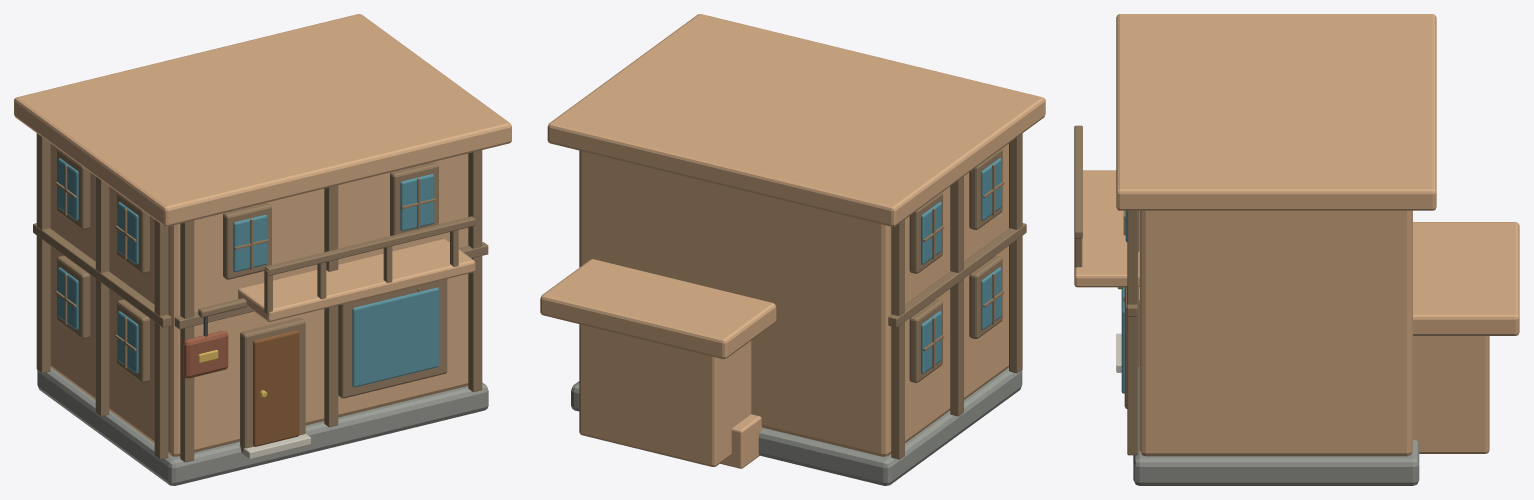
Rendered from arid-merchant-3.glb.
3 renders of one model, left to right at view 1: azimuth 30°, elevation 25°; view 2: azimuth 150°, elevation 25°; view 3: azimuth 270°, elevation 25°, orthographic. The views are drawn at different scales.
Visible parts, largest first — view 1: Adobe cream, Palm beams, Blue glass, Foundation stone, Adobe wood, Door oak, Painted sign, Cut limestone; view 2: Adobe cream, Adobe fieldstone, Palm beams, Foundation stone, Blue glass, Adobe wood; view 3: Adobe cream, Adobe fieldstone, Foundation stone, Adobe wood, Palm beams, Blue glass.
Part boxes in pixels (x1=…): Adobe cream: x1=14, y1=14, x2=511, y2=456; Palm beams: x1=33, y1=133, x2=488, y2=462; Blue glass: x1=58, y1=158, x2=439, y2=387; Foundation stone: x1=37, y1=368, x2=488, y2=485; Adobe wood: x1=238, y1=239, x2=475, y2=321; Door oak: x1=253, y1=330, x2=299, y2=446; Painted sign: x1=183, y1=331, x2=228, y2=378; Cut limestone: x1=239, y1=433, x2=310, y2=459; Adobe cream: x1=540, y1=14, x2=1045, y2=456; Adobe fieldstone: x1=579, y1=324, x2=751, y2=466; Palm beams: x1=888, y1=133, x2=1026, y2=459; Foundation stone: x1=571, y1=367, x2=1022, y2=485; Blue glass: x1=921, y1=158, x2=1001, y2=373; Adobe wood: x1=720, y1=414, x2=763, y2=468; Adobe cream: x1=1116, y1=14, x2=1519, y2=456; Adobe fieldstone: x1=1413, y1=336, x2=1489, y2=453; Foundation stone: x1=1133, y1=300, x2=1419, y2=485; Adobe wood: x1=1074, y1=170, x2=1139, y2=287; Palm beams: x1=1074, y1=125, x2=1139, y2=455; Blue glass: x1=1121, y1=210, x2=1127, y2=393.
Size of the model in its own units: 3.94 by 3.14 by 4.16.
